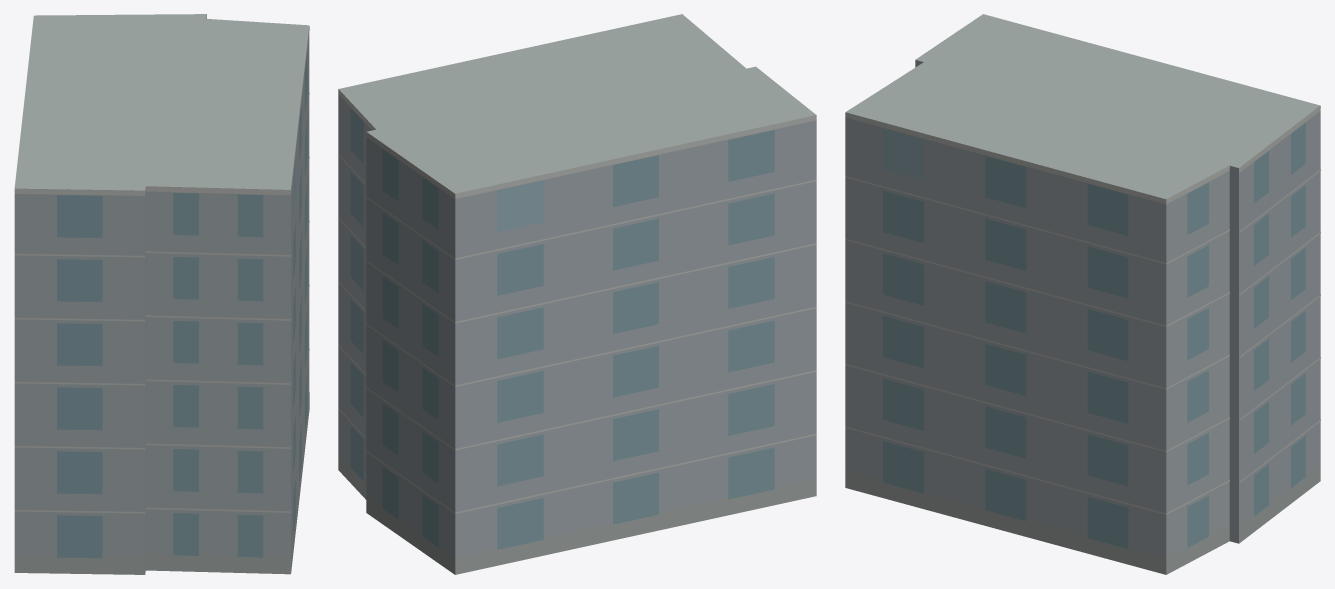
Rendered from survey-upis-32732715.glb.
3 views of the same model, side by side, from view 1: azimuth 30°, elevation 25°; view 2: azimuth 150°, elevation 25°; view 3: azimuth 270°, elevation 25° (orthographic). The views are drawn at different scales.
Visible parts, largest first — view 1: survey-upis-32732715.tmp; view 2: survey-upis-32732715.tmp; view 3: survey-upis-32732715.tmp.
Part boxes in pixels (bbox=[...]): survey-upis-32732715.tmp: bbox=[14, 14, 309, 574]; survey-upis-32732715.tmp: bbox=[338, 14, 816, 574]; survey-upis-32732715.tmp: bbox=[845, 14, 1320, 574].
Size of the model in its own units: 18.59 by 17.55 by 20.14.
